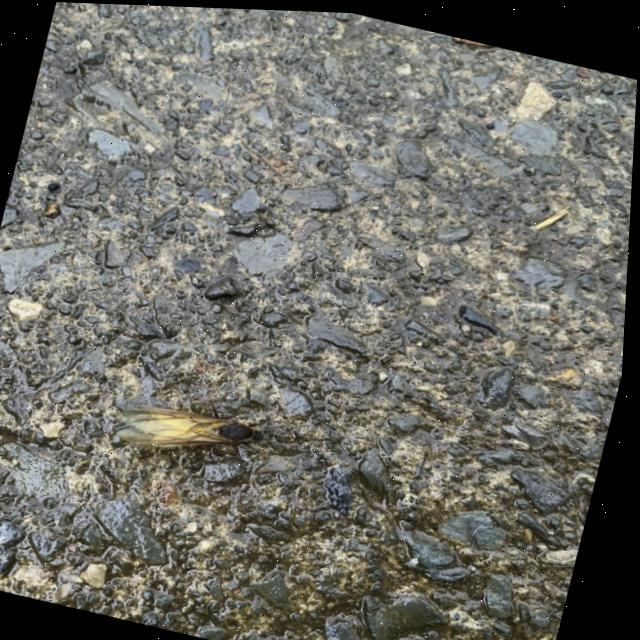Alive-Male-Alate: (111, 367, 319, 484)
